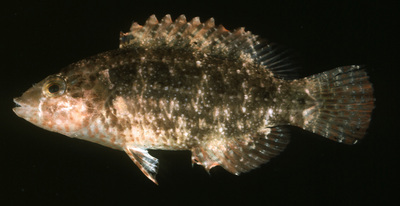fish: (12, 15, 377, 185)
